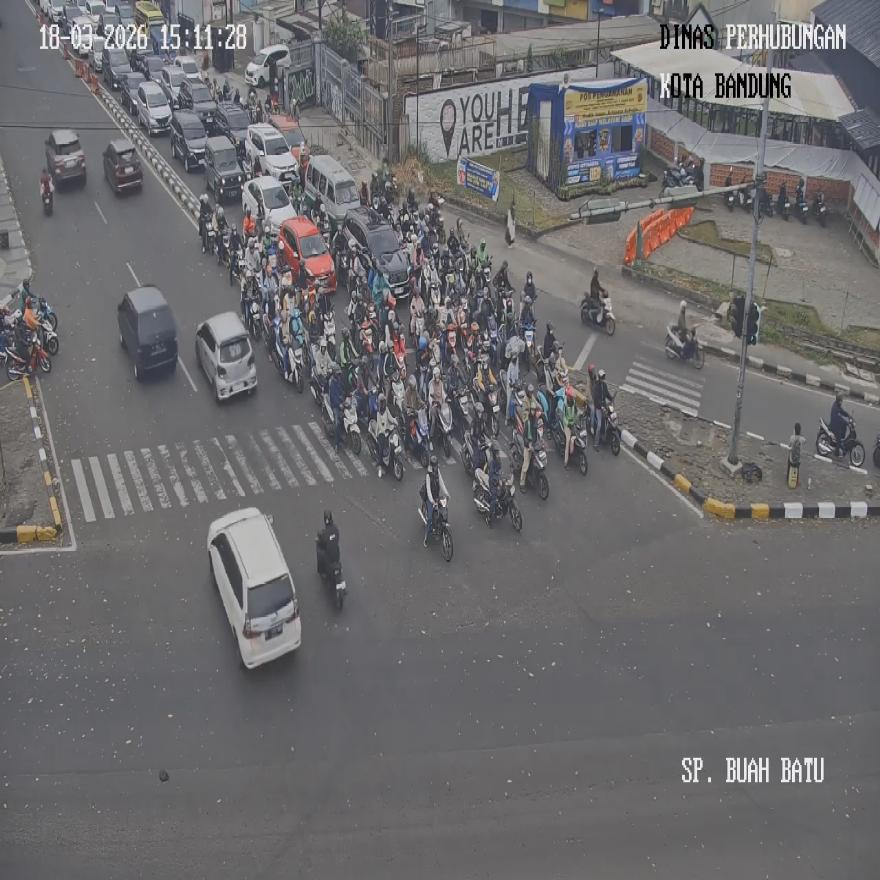Motor: (207, 507, 300, 669), (117, 285, 178, 380), (194, 310, 258, 400), (46, 127, 86, 188)
Truk: (474, 470, 522, 530), (510, 432, 549, 499), (816, 415, 864, 464), (418, 490, 452, 559), (316, 532, 345, 611), (6, 326, 50, 376), (368, 421, 404, 480), (666, 324, 705, 368), (429, 397, 453, 460), (581, 291, 615, 335), (407, 408, 430, 468), (596, 402, 621, 455), (341, 396, 362, 455), (282, 335, 303, 390), (564, 427, 588, 474), (37, 307, 59, 358), (521, 320, 536, 374), (246, 296, 263, 341), (200, 215, 217, 254), (753, 186, 773, 218), (228, 244, 242, 285), (724, 168, 737, 212), (41, 169, 53, 215), (812, 191, 827, 226), (795, 184, 808, 223), (740, 182, 756, 213), (778, 181, 790, 220), (872, 434, 879, 467)
